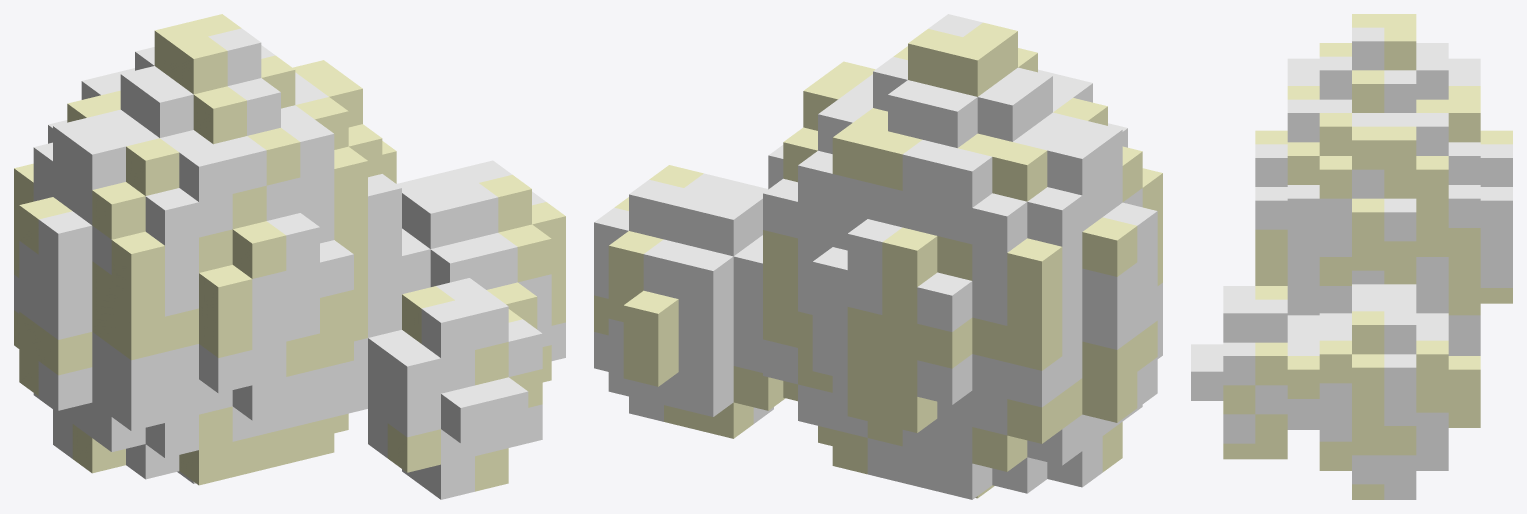
Rendered from eggs.gltf.
3 renders of one model, left to right at view 1: azimuth 30°, elevation 25°; view 2: azimuth 150°, elevation 25°; view 3: azimuth 270°, elevation 25°, orthographic. The views are drawn at different scales.
Bounding box in the file's own units: 1.5 × 1.2 × 1.
Materials: 1 (1 with a texture image).
